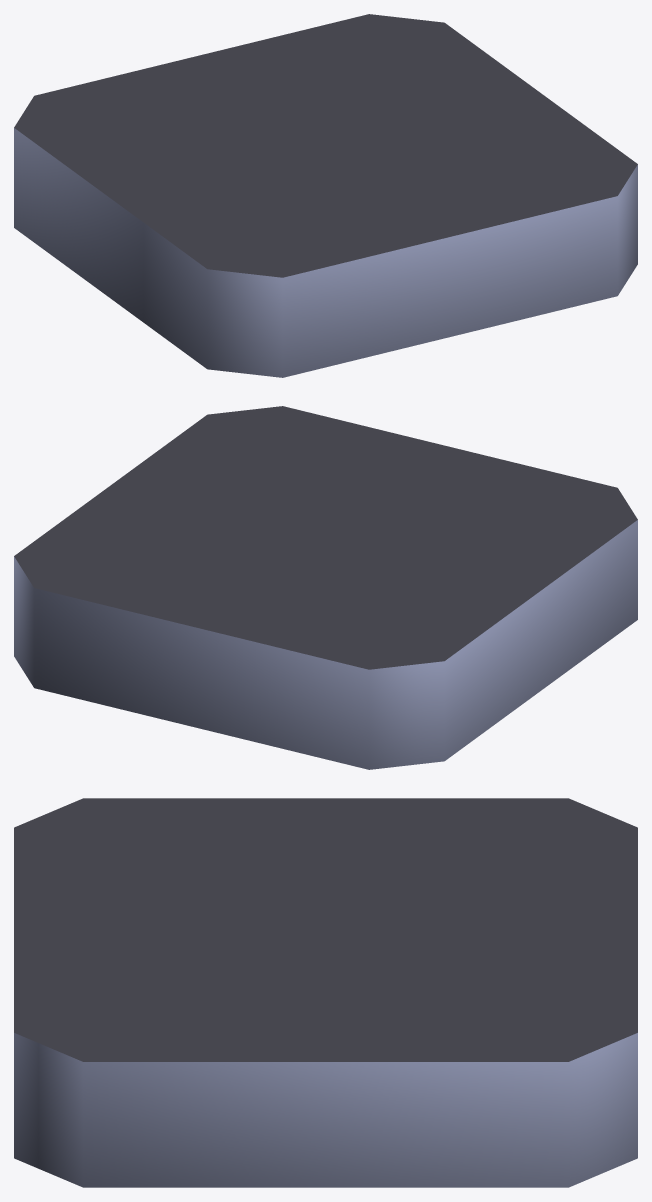
File: debris-plate-small-a.glb
3 renders of one model, top to bottom at view 1: azimuth 30°, elevation 25°; view 2: azimuth 150°, elevation 25°; view 3: azimuth 270°, elevation 25°, orthographic. The views are drawn at different scales.
Visible parts, largest first — view 1: debris-plate-small-a; view 2: debris-plate-small-a; view 3: debris-plate-small-a.
Boxes of the visible parts, left/top/right/bottom form: debris-plate-small-a: left=14, top=14, right=637, bottom=377; debris-plate-small-a: left=14, top=406, right=637, bottom=769; debris-plate-small-a: left=14, top=798, right=637, bottom=1187.
Size of the model in its own units: 0.45 by 0.1 by 0.45.
Materials: 1 (1 with a texture image).
